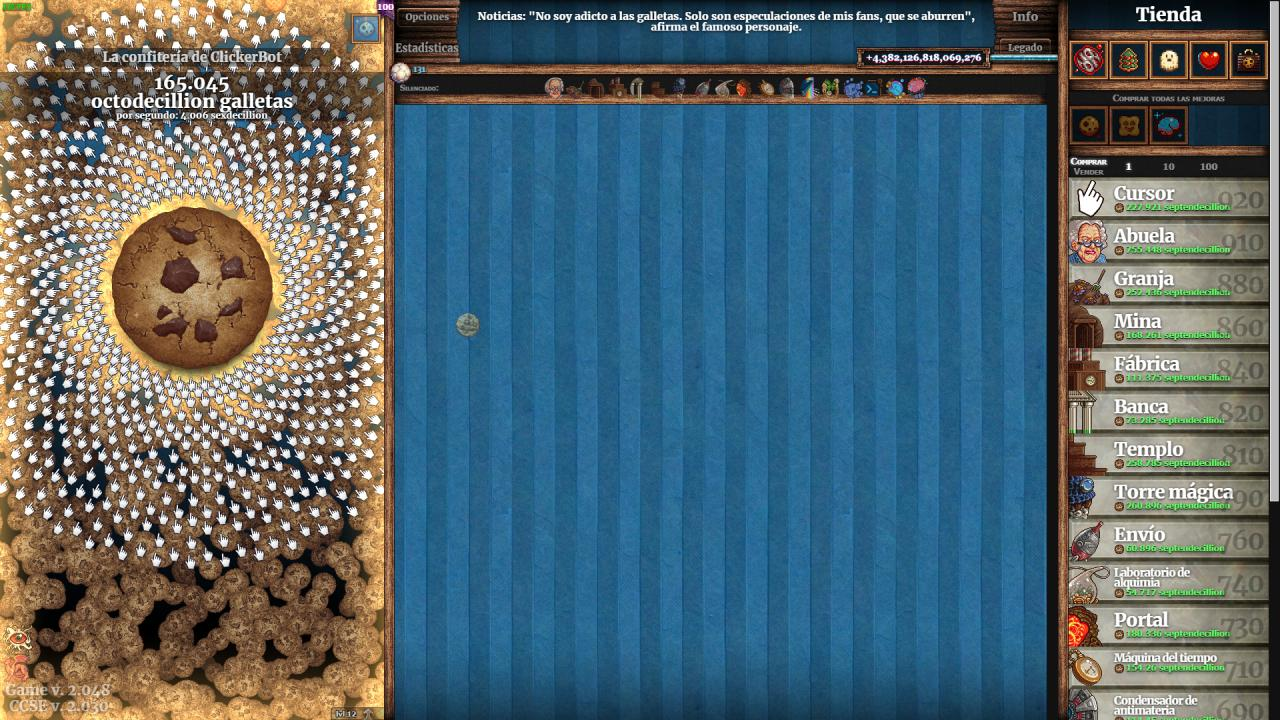GoldenCookie: (455, 311, 482, 340)
